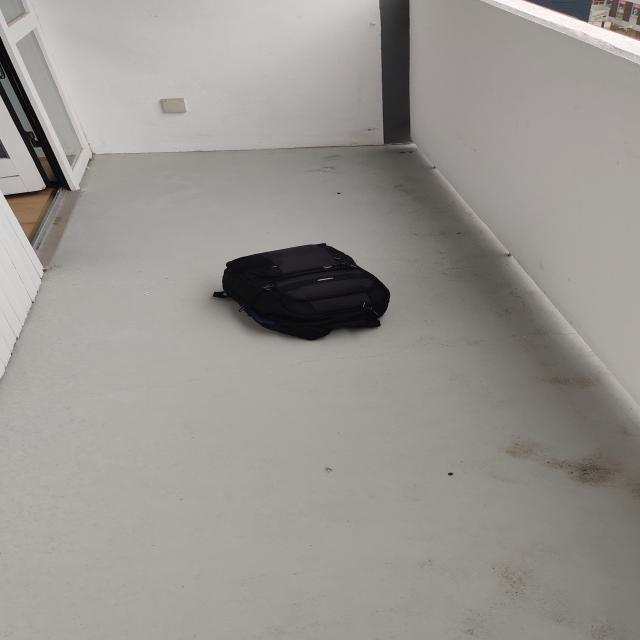backpack: (215, 239, 398, 342)
